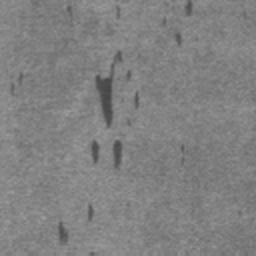Red iron sheet: (95, 50, 127, 128), (56, 220, 69, 244), (114, 141, 123, 169), (90, 141, 100, 164), (184, 0, 193, 15), (174, 32, 182, 47), (86, 206, 93, 221), (134, 92, 140, 108), (125, 69, 132, 81)
